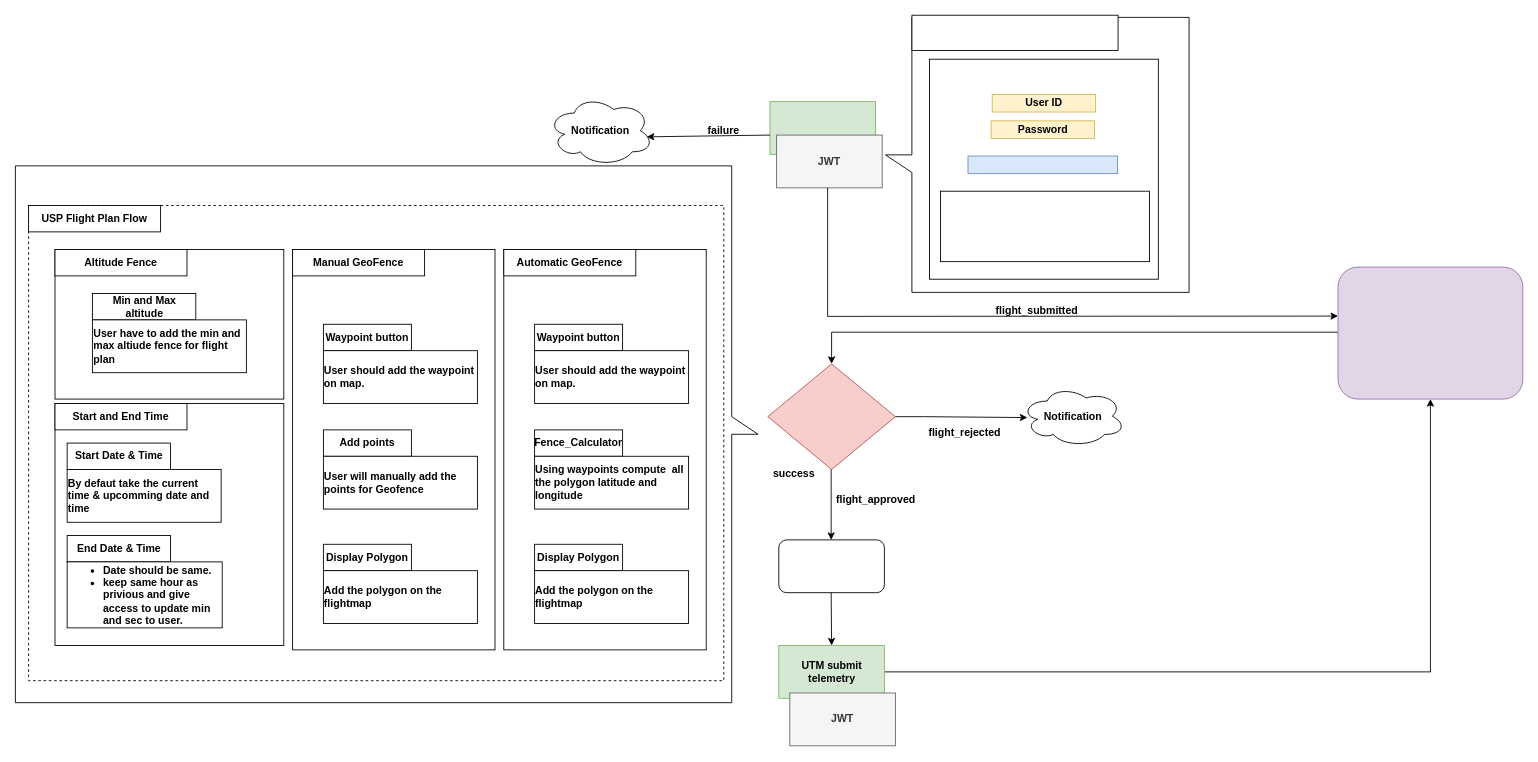
Image size: 1538x762. Some labels were removed from this diagram. The centre of each missing label's shape, as x and y in pixels:
"Authentication and Authorization" goes at (1014,32).
"Flight Authorization Status" goes at (831,416).
"Flight Plan" goes at (822,127).
"Login" goes at (1042,164).
"Oauth2.0 client credential grant flow" goes at (1044,226).
"OpenUTM USP" goes at (1430,332).
"Upload Mission" goes at (831,566).
